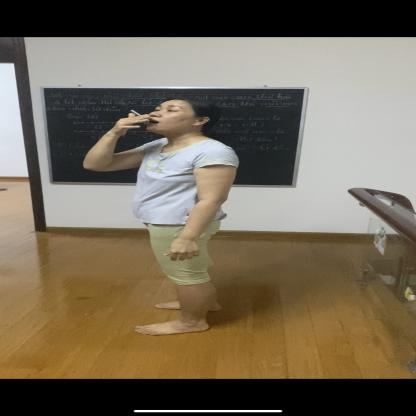cigarette: (128, 109, 142, 116)
person: (81, 96, 243, 342)
